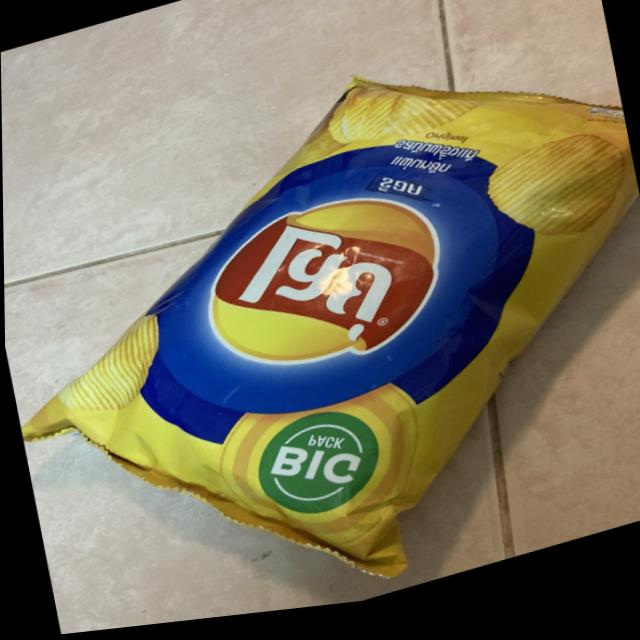LayYellow: (45, 62, 640, 585)
